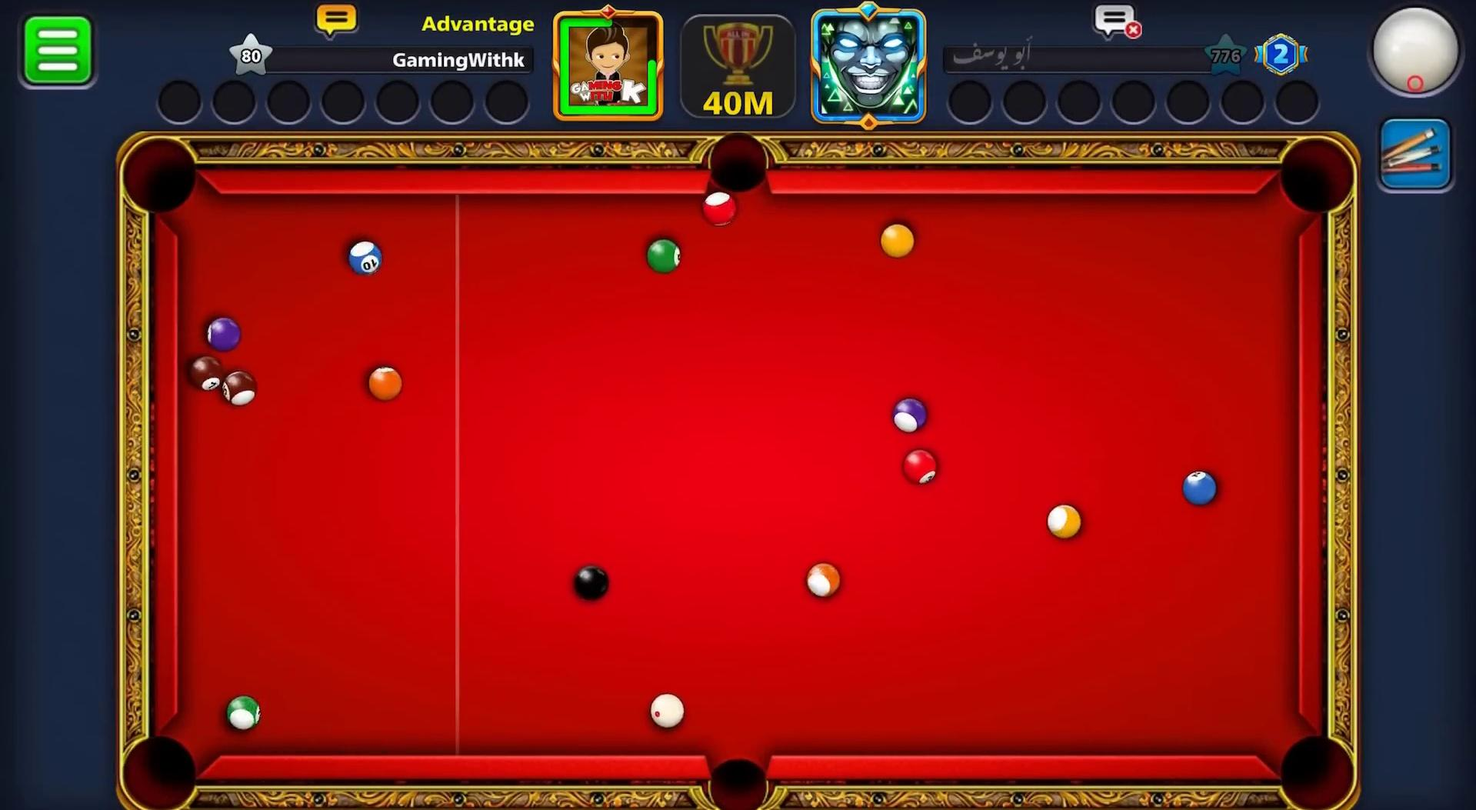Ball: (688, 175, 746, 238), (351, 352, 420, 404), (194, 304, 253, 359), (866, 211, 923, 267), (343, 227, 392, 289), (638, 222, 687, 284), (560, 558, 615, 609), (888, 389, 937, 446), (220, 686, 271, 738), (1175, 460, 1224, 514), (894, 445, 949, 493), (180, 346, 227, 398), (1044, 492, 1086, 547), (219, 364, 262, 412), (801, 557, 844, 601)
Hole: (102, 122, 221, 238), (1249, 719, 1380, 810), (1266, 125, 1366, 232), (102, 718, 218, 810), (687, 124, 798, 211), (690, 740, 788, 810)
Play_Area: (178, 193, 1299, 755)
Spin: (1364, 0, 1476, 110)
White: (636, 681, 694, 734)
